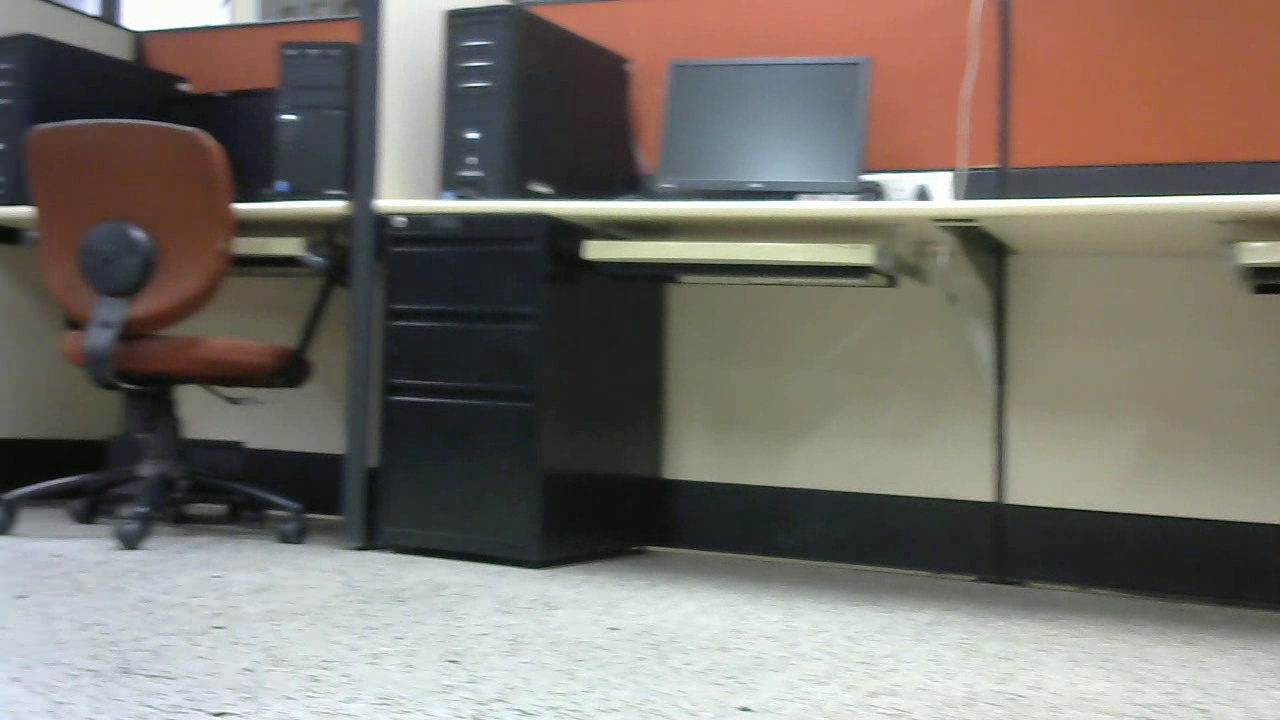chair: (4, 112, 351, 561)
